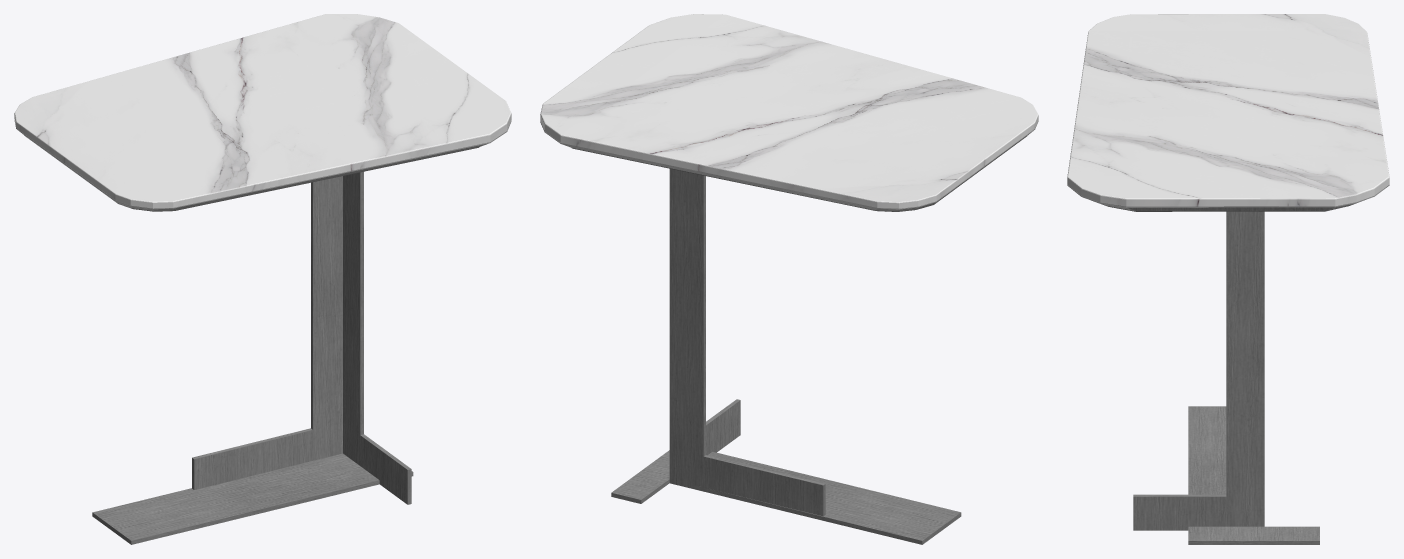
File: SBH_Surefooted_C.glb
3 views of the same model, side by side, from view 1: azimuth 30°, elevation 25°; view 2: azimuth 150°, elevation 25°; view 3: azimuth 270°, elevation 25° (orthographic). The views are drawn at different scales.
Visible parts, largest first — view 1: Surefooted_C; view 2: Surefooted_C; view 3: Surefooted_C.
Boxes of the visible parts, left/top/right/bottom form: Surefooted_C: left=14, top=14, right=511, bottom=544; Surefooted_C: left=540, top=14, right=1038, bottom=544; Surefooted_C: left=1067, top=14, right=1389, bottom=544.
Bounding box in the file's own units: 0.595 × 0.561 × 0.4366.
Materials: 2 (2 with a texture image).
